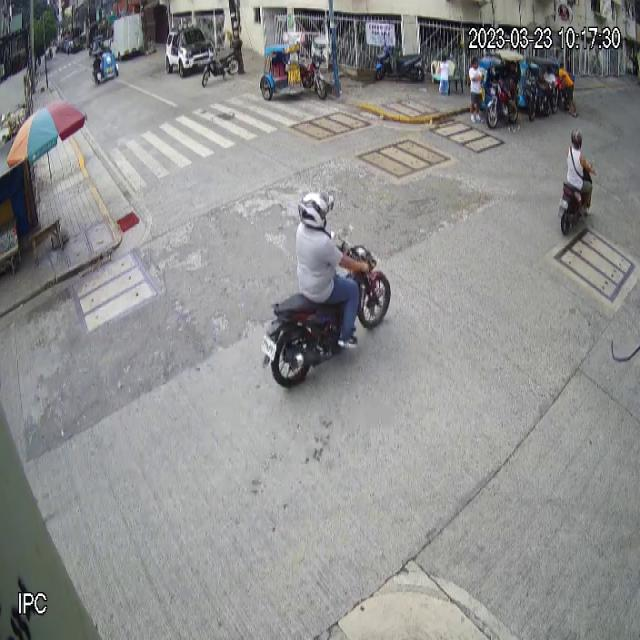Motorcycle: (263, 232, 391, 389)
Tricycle: (259, 31, 328, 102), (475, 50, 523, 130)
